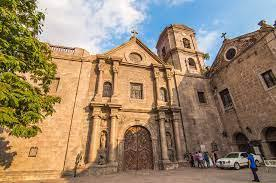Environmental Damage: (202, 52, 212, 62), (211, 84, 218, 96)
San Agustin Church: (83, 18, 219, 172)
